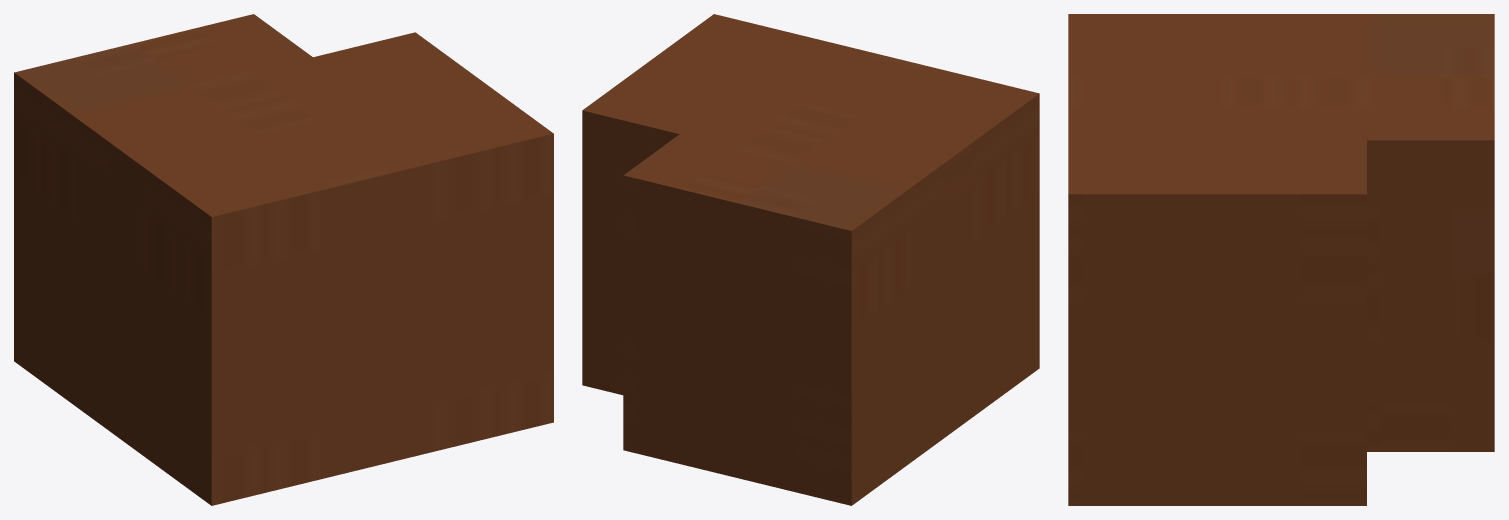
File: CabinetCCorner02.glb
3 views of the same model, side by side, from view 1: azimuth 30°, elevation 25°; view 2: azimuth 150°, elevation 25°; view 3: azimuth 270°, elevation 25° (orthographic). The views are drawn at different scales.
Visible parts, largest first — view 1: CabinetCCorner02_model; view 2: CabinetCCorner02_model; view 3: CabinetCCorner02_model.
Boxes of the visible parts, x1,y1,x2,y2 form: CabinetCCorner02_model: (14, 14, 553, 505); CabinetCCorner02_model: (582, 14, 1039, 505); CabinetCCorner02_model: (1068, 14, 1494, 505).
Bounding box in the file's own units: 1.72 × 1.39 × 1.72.
1 material, 1 textured.
